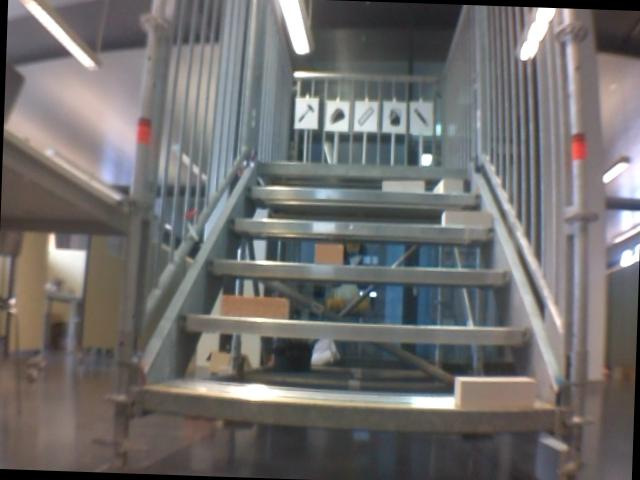brick: (455, 374, 535, 410), (221, 294, 288, 318), (442, 210, 492, 226), (314, 244, 342, 264), (382, 180, 424, 192), (434, 177, 463, 193)
bucket: (384, 106, 404, 128)
edge: (141, 388, 555, 433), (176, 315, 533, 345), (202, 259, 511, 285), (224, 217, 497, 240), (246, 185, 482, 205), (254, 160, 469, 179)
hammer: (296, 101, 317, 125)
pencil: (408, 105, 431, 131)
ruler: (356, 103, 374, 127)
steps: (138, 149, 572, 439)
taco: (326, 104, 346, 127)
